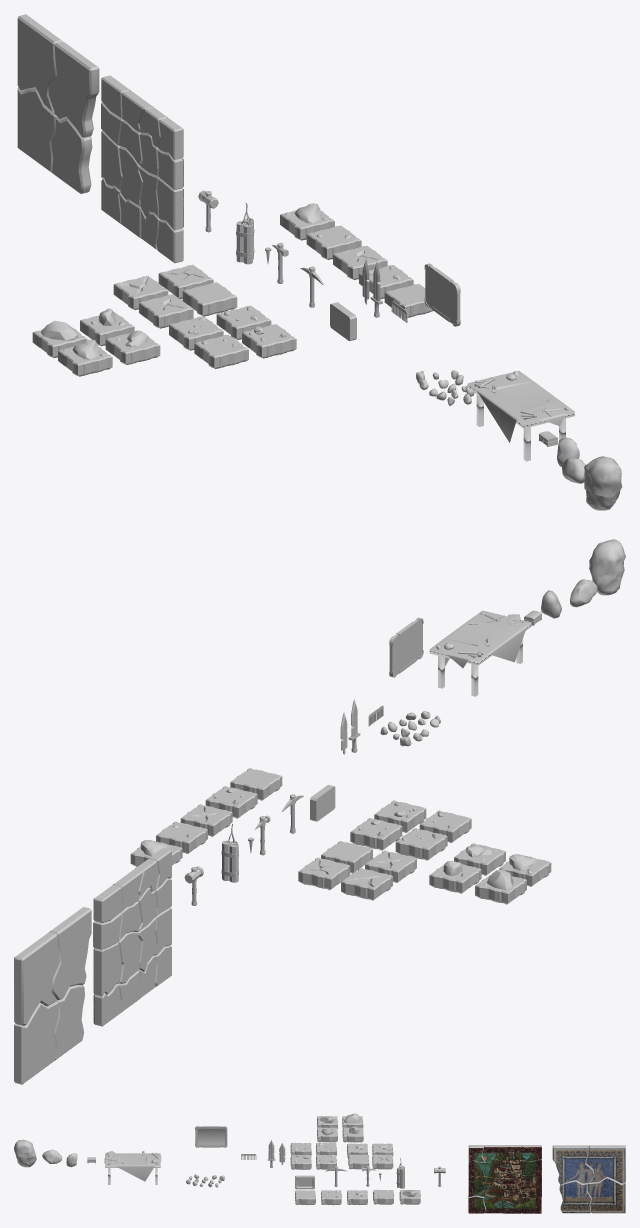
The model's file is TestAssets.fbx.
3 renders of one model, top to bottom at view 1: azimuth 30°, elevation 25°; view 2: azimuth 150°, elevation 25°; view 3: azimuth 270°, elevation 25°, orthographic. The views are drawn at different scales.
Visible parts, largest first — view 1: Cube.030, Cube.027, Cube.025, Cube.022, Cube.026, Cube.019, Cube.009, Cube.015, Cube.004, Cube.017, Cube.005, Cube.010 (+23 smaller); view 2: Cube.030, Cube.025, Cube.022, Cube.027, Cube.026, Cube.019, Miramanda_pieces.010, Cube.003, Cube.011, Cube.014, Cube.013, Cube.010 (+17 smaller); view 3: Cube.027, Cube.025, Cube.030, Cube.022, Cube.026, Cube.019, Miramanda_pieces.016, Miramanda_pieces.010, Miramanda_pieces.014, Miramanda_pieces.002, Miramanda_pieces.004, Miramanda_pieces.012 (+28 smaller).
Part boxes in pixels (<box>): Cube.030: <box>467,371,574,461</box>; Cube.027: <box>49,41,99,137</box>; Cube.025: <box>17,14,62,113</box>; Cube.022: <box>17,87,57,172</box>; Cube.026: <box>51,117,92,193</box>; Cube.019: <box>424,263,460,326</box>; Cube.009: <box>182,282,237,316</box>; Cube.015: <box>139,294,193,328</box>; Cube.004: <box>194,334,248,368</box>; Cube.017: <box>280,203,334,240</box>; Cube.005: <box>242,324,296,358</box>; Cube.010: <box>306,225,361,259</box>; Cube.030: <box>429,610,531,696</box>; Cube.025: <box>14,932,59,1025</box>; Cube.022: <box>14,1001,58,1084</box>; Cube.027: <box>49,907,91,1000</box>; Cube.026: <box>54,985,84,1060</box>; Cube.019: <box>389,617,423,677</box>; Miramanda_pieces.010: <box>93,942,122,995</box>; Cube.003: <box>341,868,392,900</box>; Cube.011: <box>298,857,350,889</box>; Cube.014: <box>395,828,447,860</box>; Cube.013: <box>350,818,402,850</box>; Cube.010: <box>156,821,207,853</box>; Cube.027: <box>552,1145,594,1184</box>; Cube.025: <box>586,1145,625,1183</box>; Cube.030: <box>104,1151,161,1184</box>; Cube.022: <box>587,1177,625,1213</box>; Cube.026: <box>559,1180,591,1213</box>; Cube.019: <box>195,1126,227,1147</box>; Miramanda_pieces.016: <box>500,1173,523,1199</box>; Miramanda_pieces.010: <box>520,1173,541,1198</box>; Miramanda_pieces.014: <box>484,1176,503,1200</box>; Miramanda_pieces.002: <box>468,1175,485,1196</box>; Miramanda_pieces.004: <box>498,1145,521,1161</box>; Miramanda_pieces.012: <box>502,1197,523,1213</box>.
Size of the model in its own units: 1970 by 966 by 6112.
